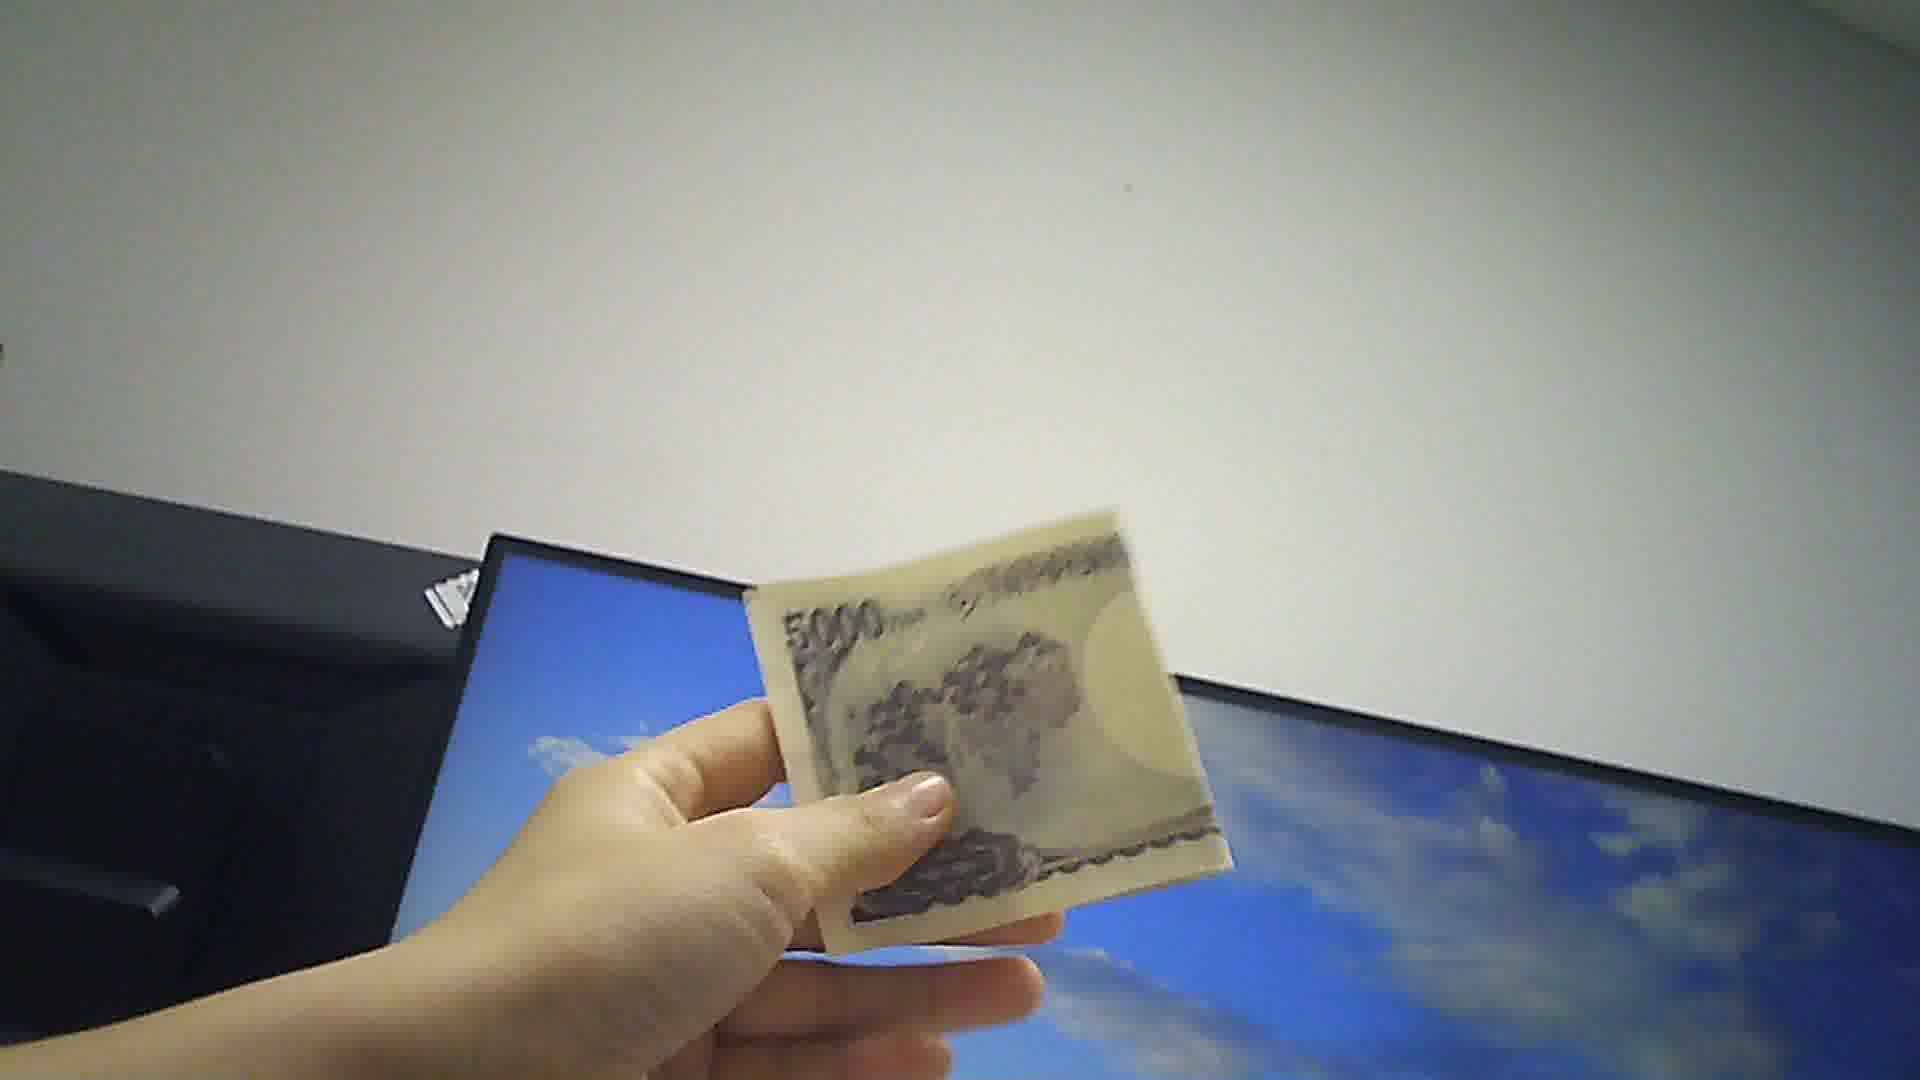5,000 Yen: (720, 518, 1254, 953)
